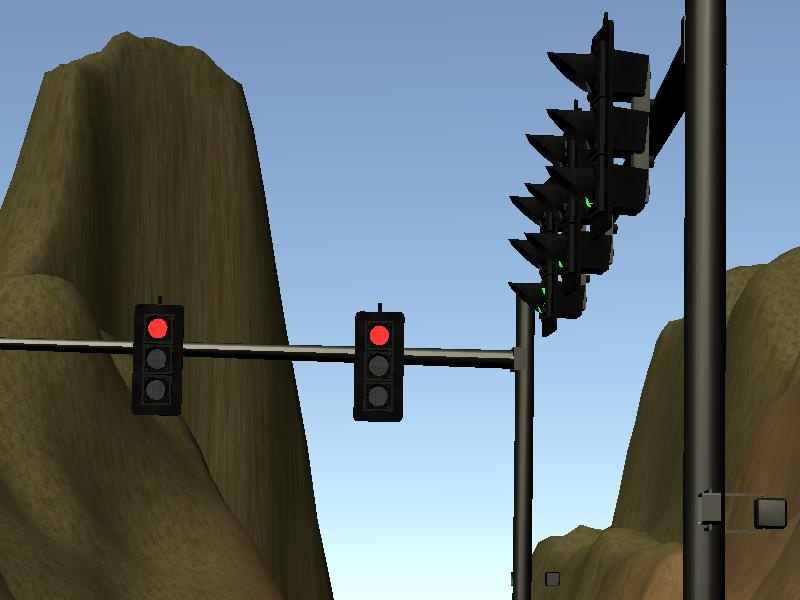red: (355, 311, 407, 422), (135, 304, 182, 416)
